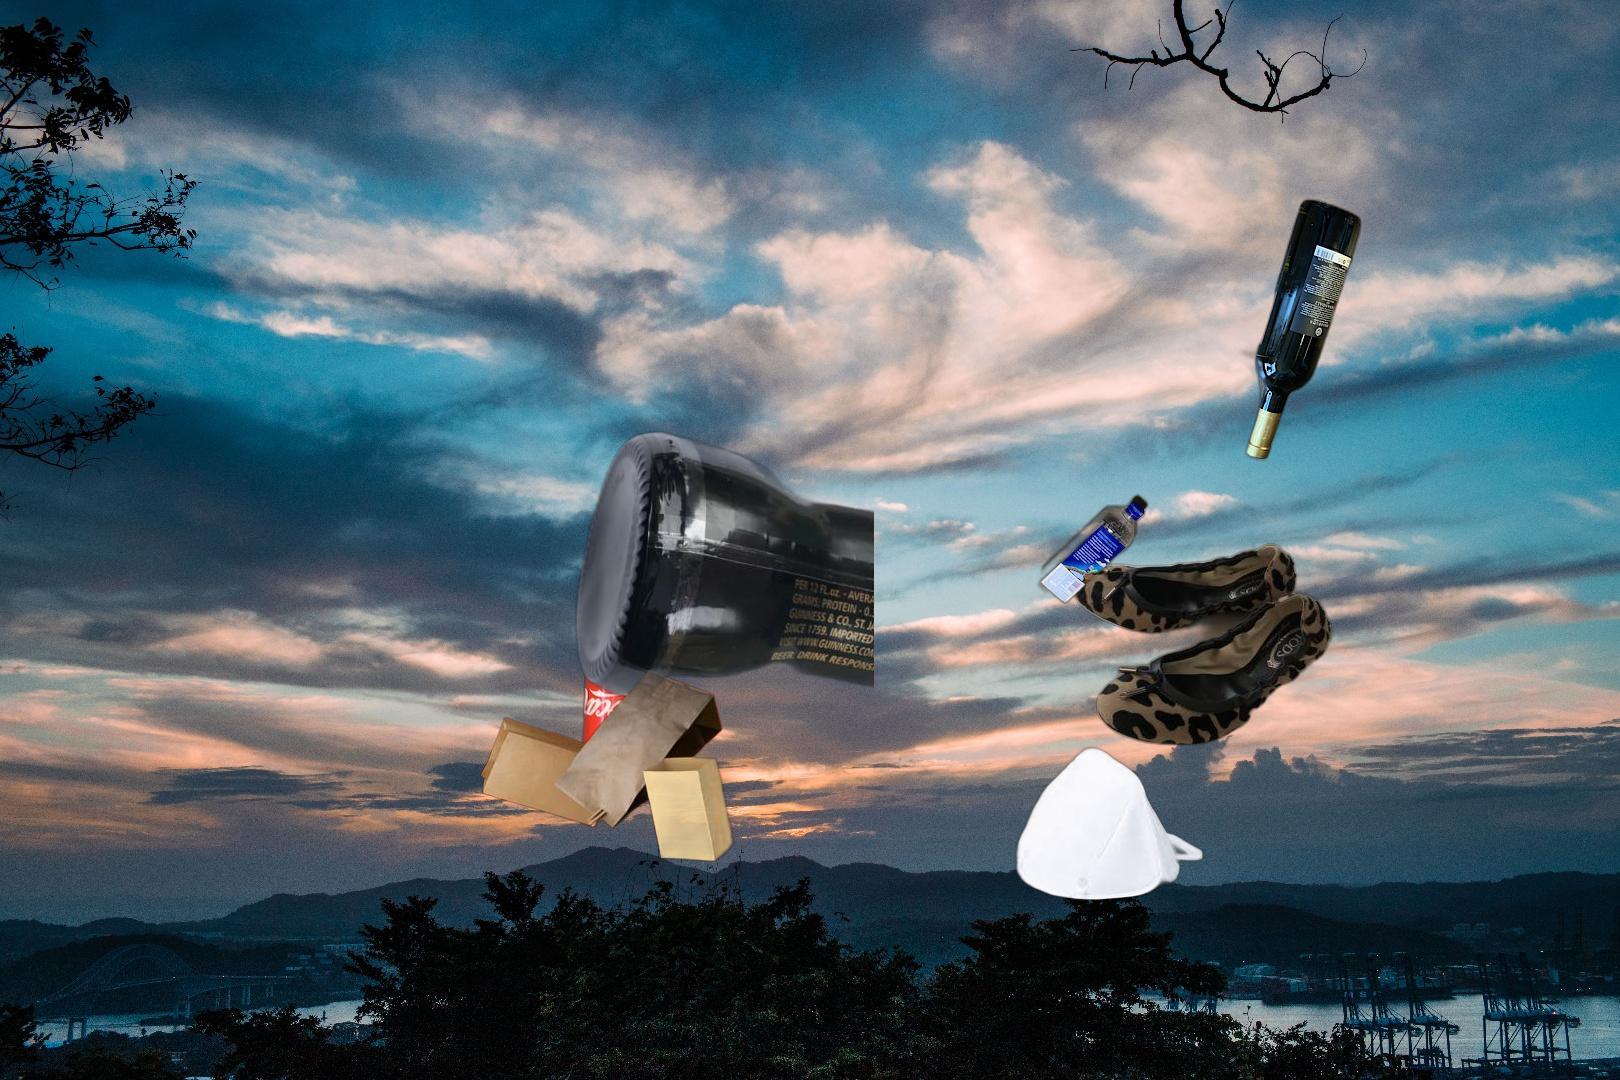glass: (571, 429, 874, 730), (1233, 193, 1366, 465)
metal-cans: (579, 630, 644, 777)
paper-bag: (479, 668, 738, 864)
plastic-bottles: (1035, 491, 1152, 610)
shoes: (1068, 538, 1336, 750)
trash: (1012, 746, 1207, 903)
